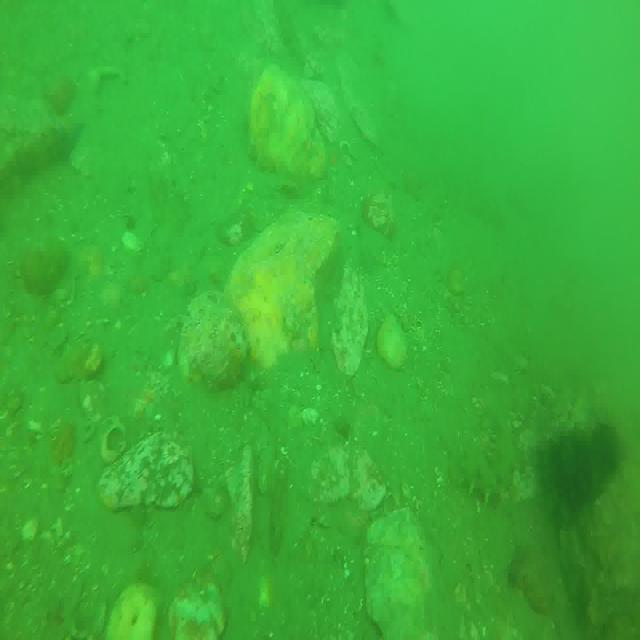echinus: (547, 425, 605, 508), (594, 419, 627, 481)
holothurian: (454, 427, 520, 506)
